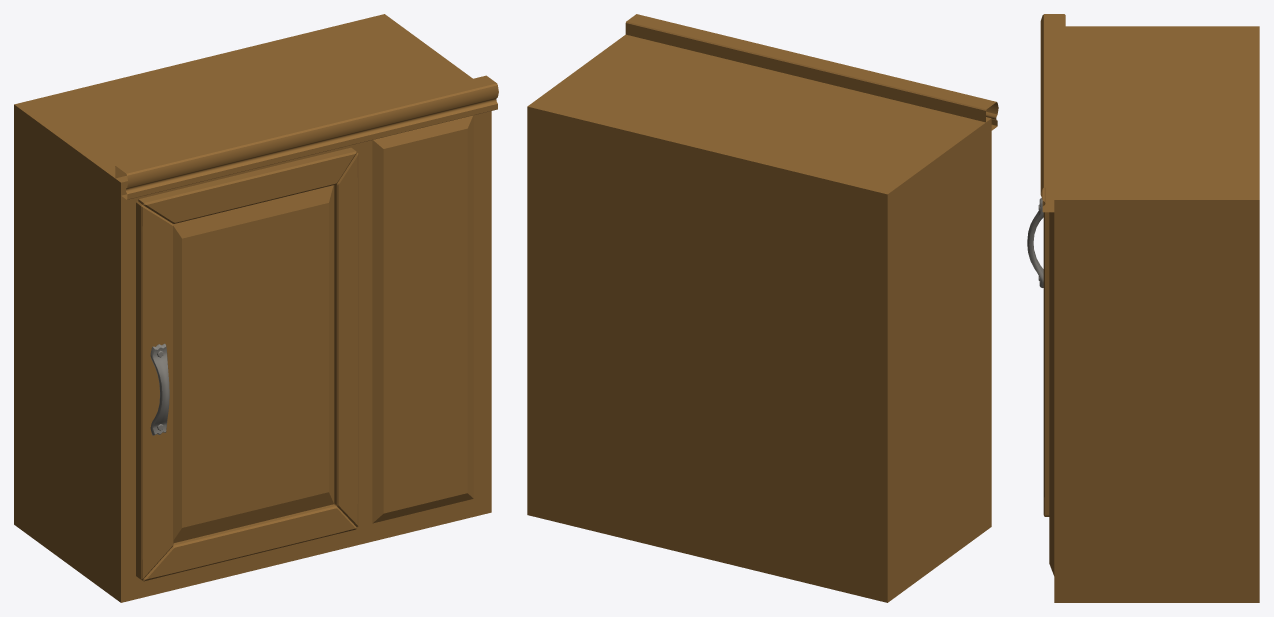
Rendered from Cabinet1_5M.fbx.
3 views of the same model, side by side, from view 1: azimuth 30°, elevation 25°; view 2: azimuth 150°, elevation 25°; view 3: azimuth 270°, elevation 25° (orthographic). The views are drawn at different scales.
Parts seen in each view (by area): view 1: Cabinet_1_5M; view 2: Cabinet_1_5M; view 3: Cabinet_1_5M.
Part boxes in pixels (box(x1,y1,x2,y2)): Cabinet_1_5M: box(14, 14, 498, 602); Cabinet_1_5M: box(527, 14, 998, 602); Cabinet_1_5M: box(1027, 14, 1259, 602).
Bounding box in the file's own units: 1.5 × 1.68 × 0.8494.
